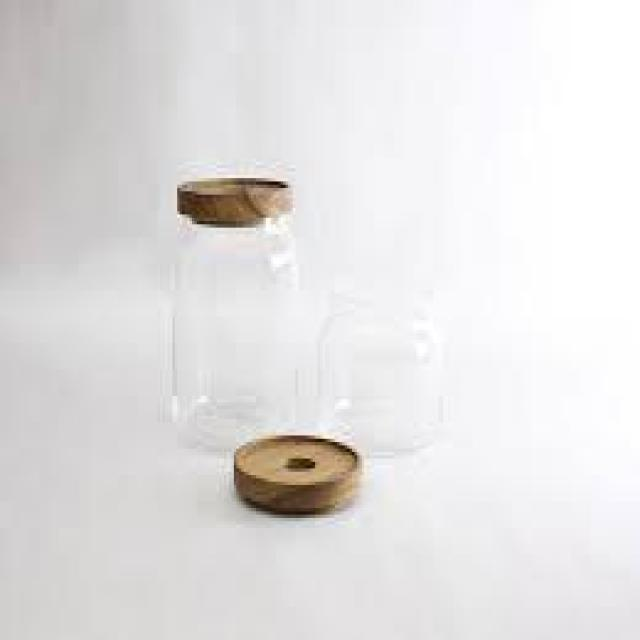Glass: (170, 177, 302, 449), (316, 280, 446, 458)
